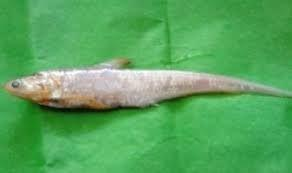Goby: (7, 55, 292, 114)
